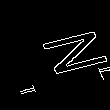N_W: (14, 28, 96, 82)
